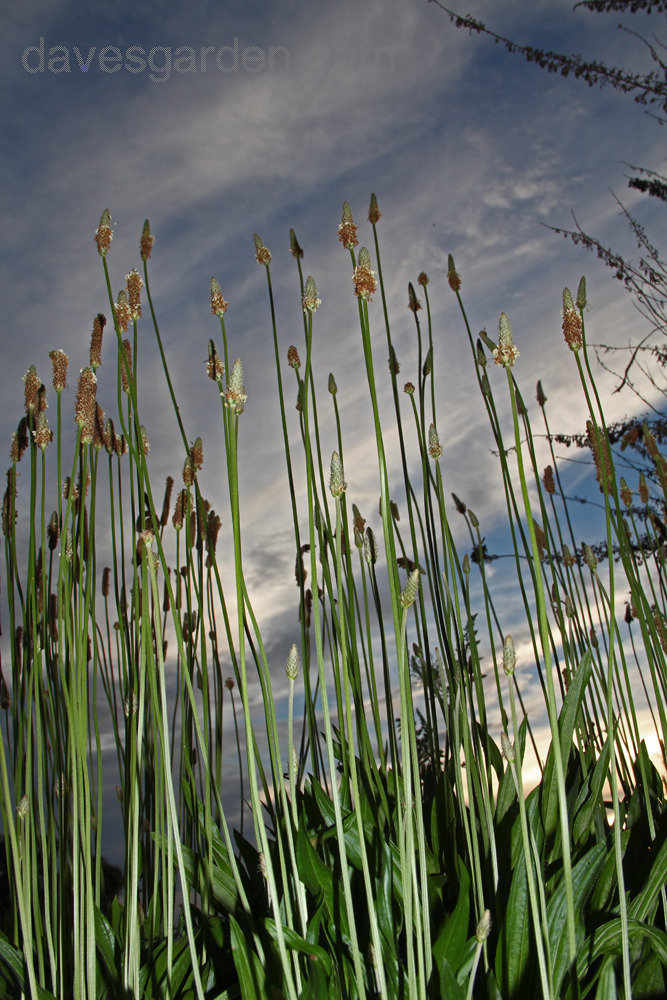buckhorn plantain: (11, 205, 654, 904)
